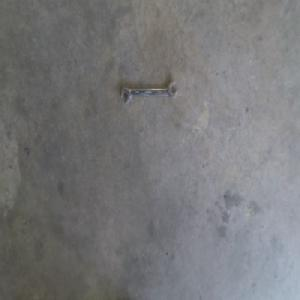Wrench: (120, 81, 178, 105)
